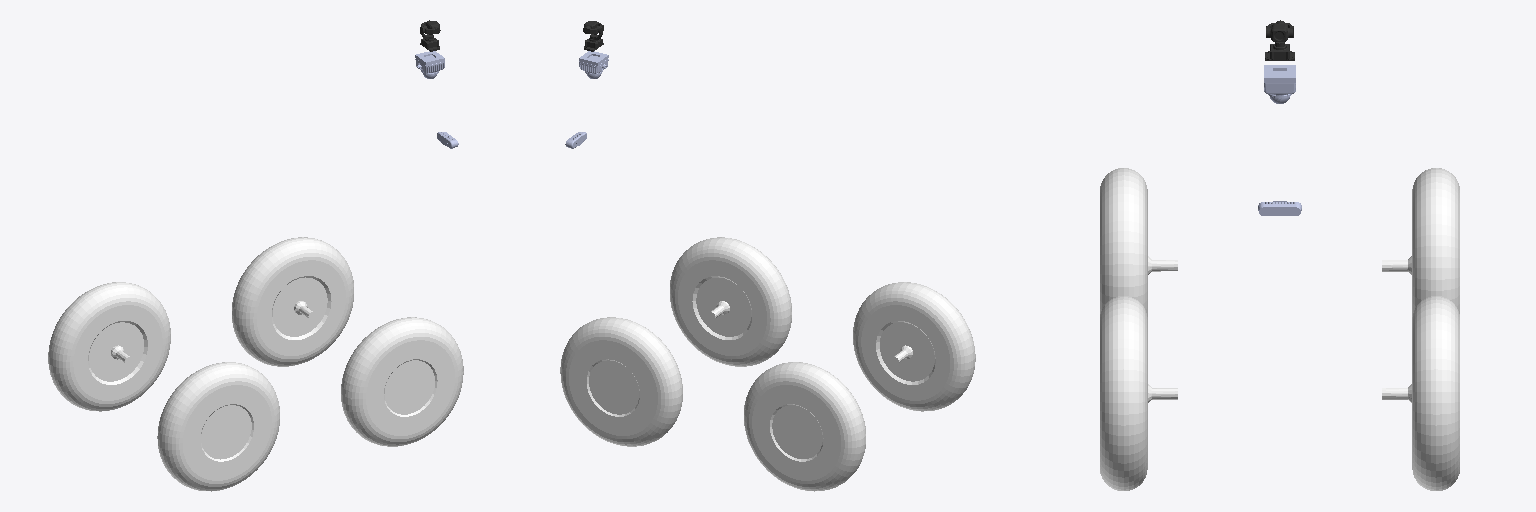
URDF robot description (robot_urdf):
<?xml version="1.0" encoding="utf-8"?>
<!-- This URDF was automatically created by SolidWorks to URDF Exporter! Originally created by Stephen Brawner (brawner@gmail.com) 
     Commit Version: 1.6.0-1-g15f4949  Build Version: 1.6.7594.29634
     For more information, please see http://wiki.ros.org/sw_urdf_exporter -->
<robot
  name="robot_urdf">
  <link
    name="base_link">
    <inertial>
      <origin
        xyz="-0.00417095121956512 -0.00241531123159877 0.36100669257767"
        rpy="0 0 0" />
      <mass
        value="61.9383310823044" />
      <inertia
        ixx="1.70206796007567"
        ixy="-0.000185653679970753"
        ixz="9.97505947807799E-06"
        iyy="6.09198512654387"
        iyz="0.000104721803753137"
        izz="7.57598084133915" />
    </inertial>
    <visual>
      <origin
        xyz="0 0 0"
        rpy="0 0 0" />
      <geometry>
        <mesh
          filename="package://robot_urdf/meshes/base_link.STL" />
      </geometry>
      <material
        name="">
        <color
          rgba="0.894117647058823 0.913725490196078 0.929411764705882 1" />
      </material>
    </visual>
    <collision>
      <origin
        xyz="0 0 0"
        rpy="0 0 0" />
      <geometry>
        <mesh
          filename="package://robot_urdf/meshes/base_link.STL" />
      </geometry>
    </collision>
  </link>
  <link
    name="AV_D_Link">
    <inertial>
      <origin
        xyz="-2.66453525910038E-15 -7.21644966006352E-16 -0.0488079901212786"
        rpy="0 0 0" />
      <mass
        value="10.657855405027" />
      <inertia
        ixx="0.105613457614365"
        ixy="-1.9937953784503E-17"
        ixz="-1.97944099945627E-16"
        iyy="0.105613457614365"
        iyz="-3.17412879252657E-17"
        izz="0.196462639195501" />
    </inertial>
    <visual>
      <origin
        xyz="0 0 0"
        rpy="0 0 0" />
      <geometry>
        <mesh
          filename="package://robot_urdf/meshes/AV_D_Link.STL" />
      </geometry>
      <material
        name="">
        <color
          rgba="1 1 1 1" />
      </material>
    </visual>
    <collision>
      <origin
        xyz="0 0 0"
        rpy="0 0 0" />
      <geometry>
        <mesh
          filename="package://robot_urdf/meshes/AV_D_Link.STL" />
      </geometry>
    </collision>
  </link>
  <joint
    name="AV_D_joint"
    type="continuous">
    <origin
      xyz="0.308 -0.36674 -0.017"
      rpy="1.5708 0 0" />
    <parent
      link="base_link" />
    <child
      link="AV_D_Link" />
    <axis
      xyz="0 0 1" />
  </joint>
  <link
    name="AR_D_Link">
    <inertial>
      <origin
        xyz="0 5.55111512312578E-17 -0.0437387693299911"
        rpy="0 0 0" />
      <mass
        value="10.657855405027" />
      <inertia
        ixx="0.105613457614365"
        ixy="-4.88093222292344E-19"
        ixz="-1.36923763684909E-16"
        iyy="0.105613457614365"
        iyz="-8.1742349778627E-17"
        izz="0.196462639195501" />
    </inertial>
    <visual>
      <origin
        xyz="0 0 0"
        rpy="0 0 0" />
      <geometry>
        <mesh
          filename="package://robot_urdf/meshes/AR_D_Link.STL" />
      </geometry>
      <material
        name="">
        <color
          rgba="1 1 1 1" />
      </material>
    </visual>
    <collision>
      <origin
        xyz="0 0 0"
        rpy="0 0 0" />
      <geometry>
        <mesh
          filename="package://robot_urdf/meshes/AR_D_Link.STL" />
      </geometry>
    </collision>
  </link>
  <joint
    name="AR_D_joint"
    type="continuous">
    <origin
      xyz="-0.308 -0.36167 -0.017"
      rpy="1.5708 0 0" />
    <parent
      link="base_link" />
    <child
      link="AR_D_Link" />
    <axis
      xyz="0 0 1" />
  </joint>
  <link
    name="AV_G_Link">
    <inertial>
      <origin
        xyz="0 -1.66533453693773E-16 0.0488079901212815"
        rpy="0 0 0" />
      <mass
        value="10.657855405027" />
      <inertia
        ixx="0.105613457614365"
        ixy="-5.59617042711752E-18"
        ixz="-6.82317980604428E-18"
        iyy="0.105613457614365"
        iyz="-2.22852761344364E-16"
        izz="0.196462639195501" />
    </inertial>
    <visual>
      <origin
        xyz="0 0 0"
        rpy="0 0 0" />
      <geometry>
        <mesh
          filename="package://robot_urdf/meshes/AV_G_Link.STL" />
      </geometry>
      <material
        name="">
        <color
          rgba="1 1 1 1" />
      </material>
    </visual>
    <collision>
      <origin
        xyz="0 0 0"
        rpy="0 0 0" />
      <geometry>
        <mesh
          filename="package://robot_urdf/meshes/AV_G_Link.STL" />
      </geometry>
    </collision>
  </link>
  <joint
    name="AV_G_joint"
    type="continuous">
    <origin
      xyz="0.308000000000012 0.366737835643882 -0.0170000000000005"
      rpy="1.5707963267949 0 0" />
    <parent
      link="base_link" />
    <child
      link="AV_G_Link" />
    <axis
      xyz="0 0 1" />
  </joint>
  <link
    name="AR_G_Link">
    <inertial>
      <origin
        xyz="0 -5.55111512312578E-17 0.0488079901212819"
        rpy="0 0 0" />
      <mass
        value="10.657855405027" />
      <inertia
        ixx="0.105613457614365"
        ixy="-3.29449071720413E-19"
        ixz="-4.63597471896205E-18"
        iyy="0.105613457614365"
        iyz="-1.77088881526179E-16"
        izz="0.196462639195501" />
    </inertial>
    <visual>
      <origin
        xyz="0 0 0"
        rpy="0 0 0" />
      <geometry>
        <mesh
          filename="package://robot_urdf/meshes/AR_G_Link.STL" />
      </geometry>
      <material
        name="">
        <color
          rgba="1 1 1 1" />
      </material>
    </visual>
    <collision>
      <origin
        xyz="0 0 0"
        rpy="0 0 0" />
      <geometry>
        <mesh
          filename="package://robot_urdf/meshes/AR_G_Link.STL" />
      </geometry>
    </collision>
  </link>
  <joint
    name="AR_G_joint"
    type="continuous">
    <origin
      xyz="-0.307999999999992 0.366737835643881 -0.0170000000000008"
      rpy="1.5707963267949 0 0" />
    <parent
      link="base_link" />
    <child
      link="AR_G_Link" />
    <axis
      xyz="0 0 1" />
  </joint>
  <link
    name="lidar_Link">
    <inertial>
      <origin
        xyz="0.000159186781974352 5.07986041275998E-06 -0.043469487577298"
        rpy="0 0 0" />
      <mass
        value="0.177860600944542" />
      <inertia
        ixx="5.58086482133709E-05"
        ixy="1.41429394666722E-08"
        ixz="-3.07876346138148E-07"
        iyy="5.92691922016033E-05"
        iyz="5.57295928405338E-12"
        izz="9.5466399844112E-05" />
    </inertial>
    <visual>
      <origin
        xyz="0 0 0"
        rpy="0 0 0" />
      <geometry>
        <mesh
          filename="package://robot_urdf/meshes/lidar_Link.STL" />
      </geometry>
      <material
        name="">
        <color
          rgba="0.792156862745098 0.819607843137255 0.933333333333333 1" />
      </material>
    </visual>
    <collision>
      <origin
        xyz="0 0 0"
        rpy="0 0 0" />
      <geometry>
        <mesh
          filename="package://robot_urdf/meshes/lidar_Link.STL" />
      </geometry>
    </collision>
  </link>
  <joint
    name="lidar_joint"
    type="fixed">
    <origin
      xyz="0.585000000000027 0 0.7649029"
      rpy="-3.14159265358979 0 -3.14159265358979" />
    <parent
      link="base_link" />
    <child
      link="lidar_Link" />
    <axis
      xyz="0 0 0" />
  </joint>
  <link
    name="cam_Link">
    <inertial>
      <origin
        xyz="-0.0226158939855332 -0.022618989029416 -0.0012379327837766"
        rpy="0 0 0" />
      <mass
        value="0.095298987254699" />
      <inertia
        ixx="2.07983015136016E-05"
        ixy="8.38026993965303E-07"
        ixz="2.10534496019227E-07"
        iyy="2.63066776224361E-05"
        iyz="1.41516164232413E-07"
        izz="1.49132584322726E-05" />
    </inertial>
    <visual>
      <origin
        xyz="0 0 0"
        rpy="0 0 0" />
      <geometry>
        <mesh
          filename="package://robot_urdf/meshes/cam_Link.STL" />
      </geometry>
      <material
        name="">
        <color
          rgba="0.250980392156863 0.250980392156863 0.250980392156863 1" />
      </material>
    </visual>
    <collision>
      <origin
        xyz="0 0 0"
        rpy="0 0 0" />
      <geometry>
        <mesh
          filename="package://robot_urdf/meshes/cam_Link.STL" />
      </geometry>
    </collision>
  </link>
  <joint
    name="cam_joint"
    type="fixed">
    <origin
      xyz="0.60871 -0.0012978 0.92609"
      rpy="1.5708 0 0" />
    <parent
      link="base_link" />
    <child
      link="cam_Link" />
    <axis
      xyz="0 0 0" />
  </joint>
  <link
    name="camnav_Link">
    <inertial>
      <origin
        xyz="-0.00925372526693868 -5.95715081210813E-05 -0.0117421367150996"
        rpy="0 0 0" />
      <mass
        value="0.0455021307700257" />
      <inertia
        ixx="2.73736522546793E-05"
        ixy="-5.95992913918624E-10"
        ixz="-2.33494573713122E-07"
        iyy="2.75337121147786E-05"
        iyz="2.75014303692742E-09"
        izz="4.09798843901291E-06" />
    </inertial>
    <visual>
      <origin
        xyz="0 0 0"
        rpy="0 0 0" />
      <geometry>
        <mesh
          filename="package://robot_urdf/meshes/camnav_Link.STL" />
      </geometry>
      <material
        name="">
        <color
          rgba="0.792156862745098 0.819607843137255 0.933333333333333 1" />
      </material>
    </visual>
    <collision>
      <origin
        xyz="0 0 0"
        rpy="0 0 0" />
      <geometry>
        <mesh
          filename="package://robot_urdf/meshes/camnav_Link.STL" />
      </geometry>
    </collision>
  </link>
  <joint
    name="camnav_joint"
    type="fixed">
    <origin
      xyz="0.652 -0.0115 0.5535"
      rpy="1.5708 0 0" />
    <parent
      link="base_link" />
    <child
      link="camnav_Link" />
    <axis
      xyz="0 0 0" />
  </joint>
</robot>

--- Facts derived from the render (not from the file) ---
Views: 3 orthographic renders of the robot side by side, from view 1: azimuth 30°, elevation 25°; view 2: azimuth 150°, elevation 25°; view 3: azimuth 270°, elevation 25°.
Robot: robot_urdf — 8 links, 7 joints (4 continuous, 3 fixed); root link base_link; default pose: every joint at zero.
Visible links, largest first — view 1: AV_G_Link, AV_D_Link, AR_G_Link, AR_D_Link, lidar_Link; view 2: AV_G_Link, AV_D_Link, AR_D_Link, AR_G_Link, lidar_Link; view 3: AV_D_Link, AV_G_Link, AR_G_Link, AR_D_Link, lidar_Link, cam_Link, camnav_Link.
Link boxes in pixels (x1=…): AV_G_Link: x1=232, y1=237, x2=353, y2=366; AV_D_Link: x1=341, y1=317, x2=463, y2=446; AR_G_Link: x1=48, y1=282, x2=170, y2=411; AR_D_Link: x1=157, y1=362, x2=279, y2=491; lidar_Link: x1=415, y1=51, x2=444, y2=78; AV_G_Link: x1=560, y1=317, x2=682, y2=446; AV_D_Link: x1=670, y1=237, x2=791, y2=366; AR_D_Link: x1=853, y1=282, x2=975, y2=411; AR_G_Link: x1=744, y1=362, x2=865, y2=491; lidar_Link: x1=579, y1=51, x2=608, y2=78; AV_D_Link: x1=1100, y1=296, x2=1177, y2=490; AV_G_Link: x1=1382, y1=296, x2=1459, y2=490; AR_G_Link: x1=1382, y1=168, x2=1459, y2=316; AR_D_Link: x1=1100, y1=168, x2=1177, y2=316; lidar_Link: x1=1264, y1=65, x2=1295, y2=103; cam_Link: x1=1265, y1=20, x2=1294, y2=60; camnav_Link: x1=1258, y1=201, x2=1301, y2=215.
Size in the robot's own frame: 1.16 by 0.7335 by 1.16 metres.
7 mesh visuals loaded from 8 distinct referenced files (7 binary STL); not drawn: 1 (reference not matched to a file when rendering).
